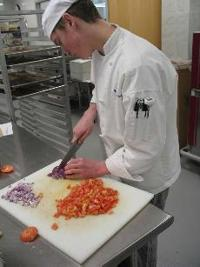person: (41, 1, 183, 265)
